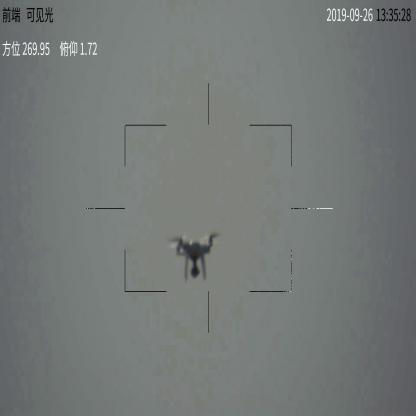uav: (168, 232, 222, 280)
